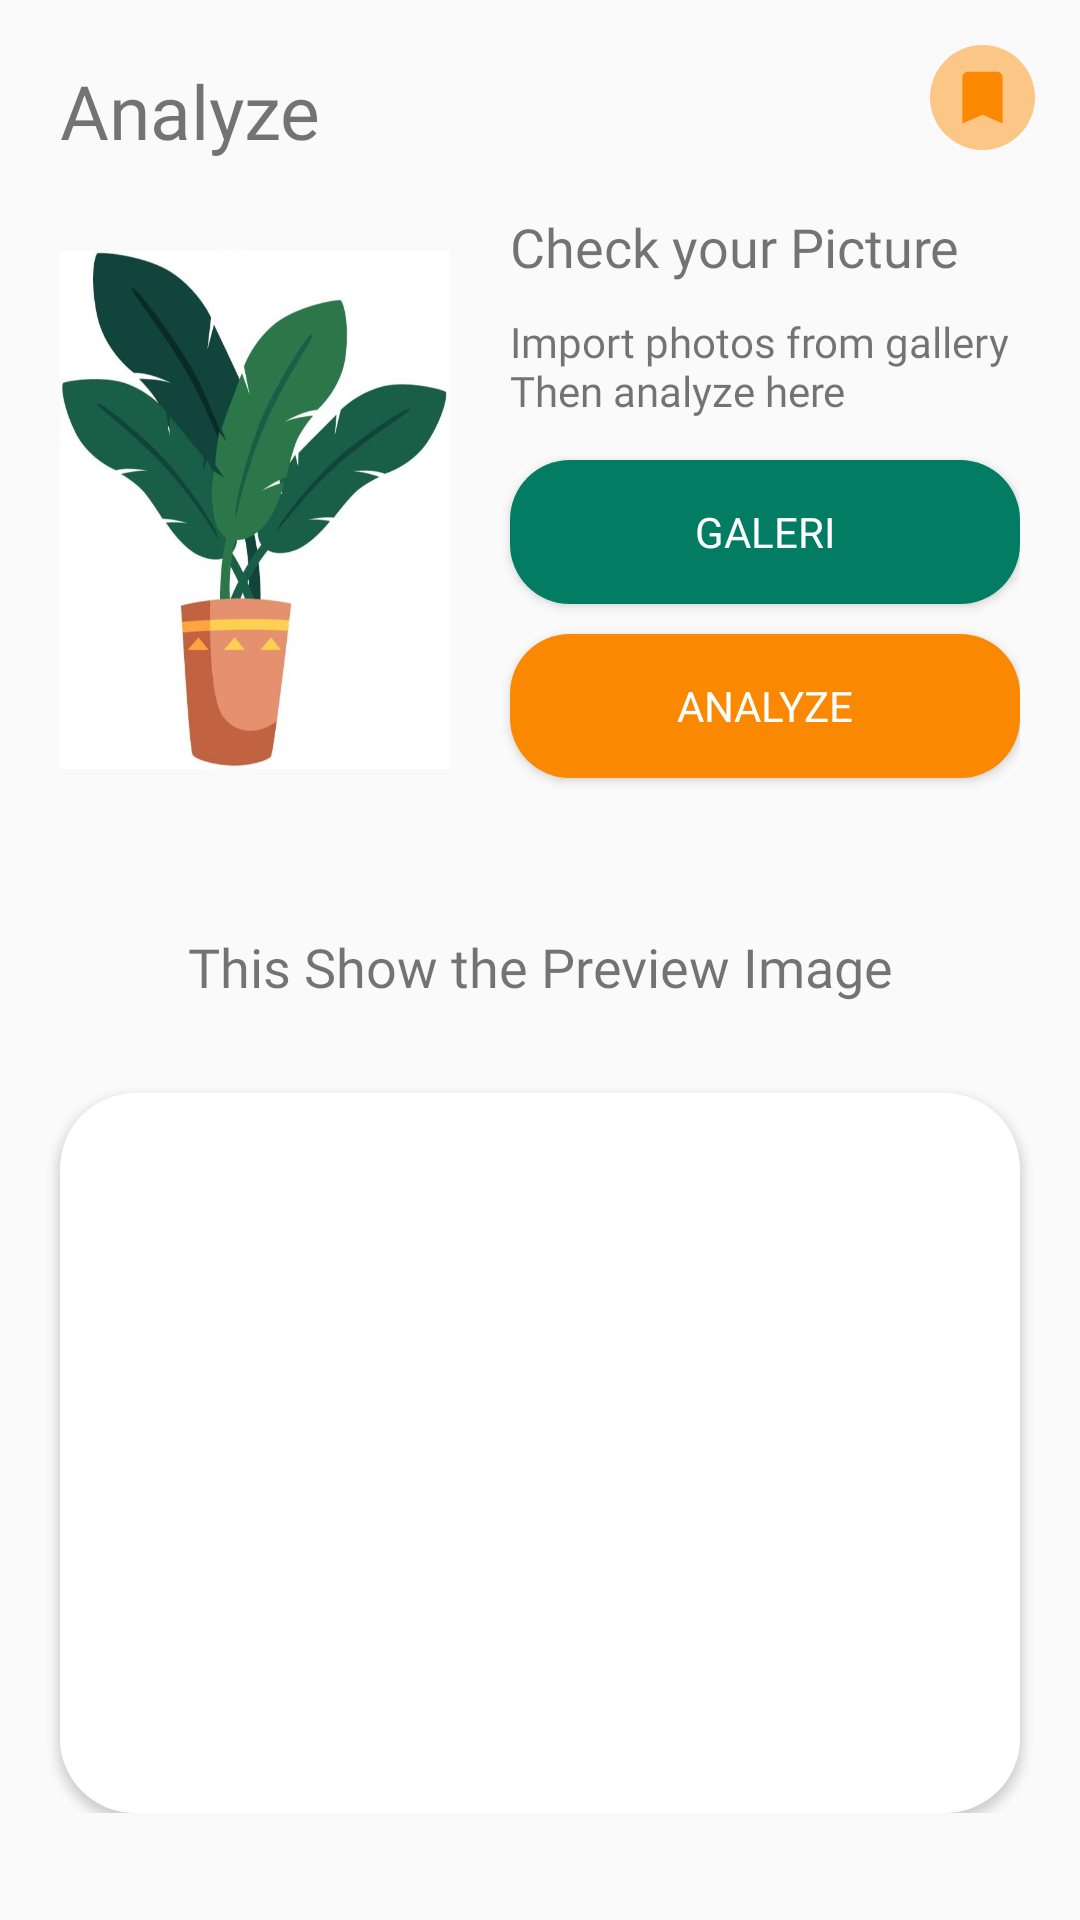

Named icons in this screenshot (1080px x 1920px) and their bounding boxes, [left=x1, top=y1, right=x2, bottom=y2]:
This is Content Description of Bookmarks in Result: [left=930, top=45, right=1035, bottom=150]
